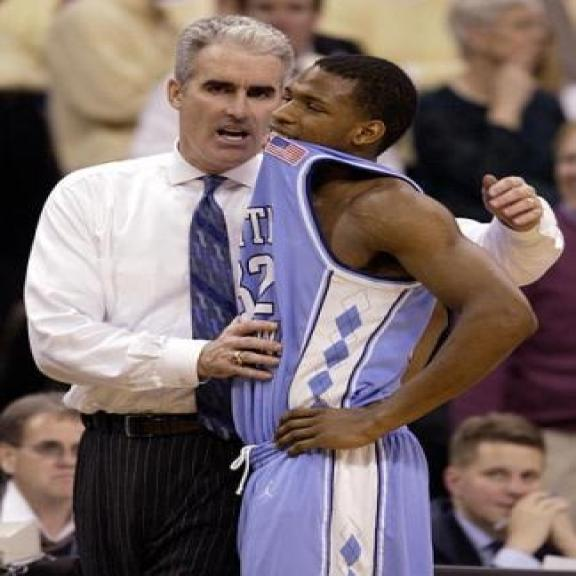face: (170, 46, 282, 170), (274, 59, 384, 163), (442, 429, 549, 531), (5, 408, 95, 508), (453, 2, 553, 78), (250, 0, 317, 56)
